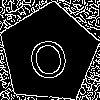O: (23, 28, 71, 82)
